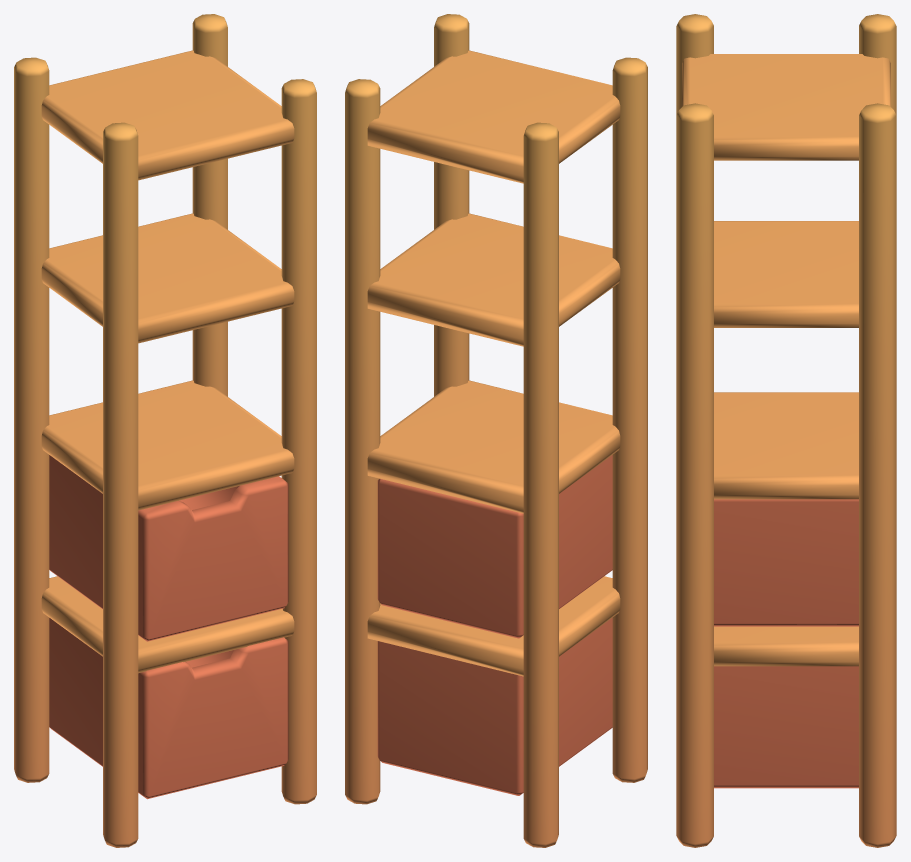
Rendered from Furniture_Cabinet_10.fbx.
3 renders of one model, left to right at view 1: azimuth 30°, elevation 25°; view 2: azimuth 150°, elevation 25°; view 3: azimuth 270°, elevation 25°, orthographic. The views are drawn at different scales.
Parts seen in each view (by area): view 1: Furniture_Cabinet_10; view 2: Furniture_Cabinet_10; view 3: Furniture_Cabinet_10.
Boxes of the visible parts, x1,y1,x2,y2 form: Furniture_Cabinet_10: [14, 14, 316, 847]; Furniture_Cabinet_10: [345, 14, 647, 847]; Furniture_Cabinet_10: [676, 14, 896, 847].
Size of the model in its own units: 100 by 326 by 88.48.
